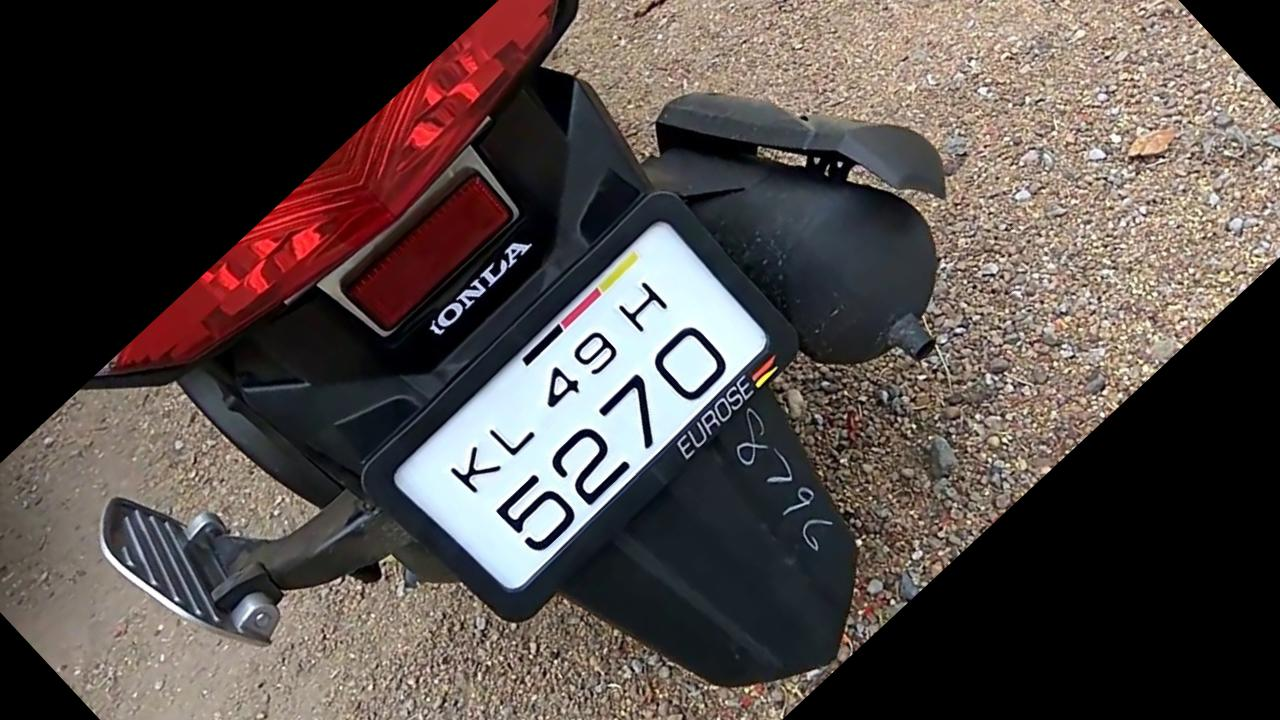plate: (360, 183, 819, 633)
